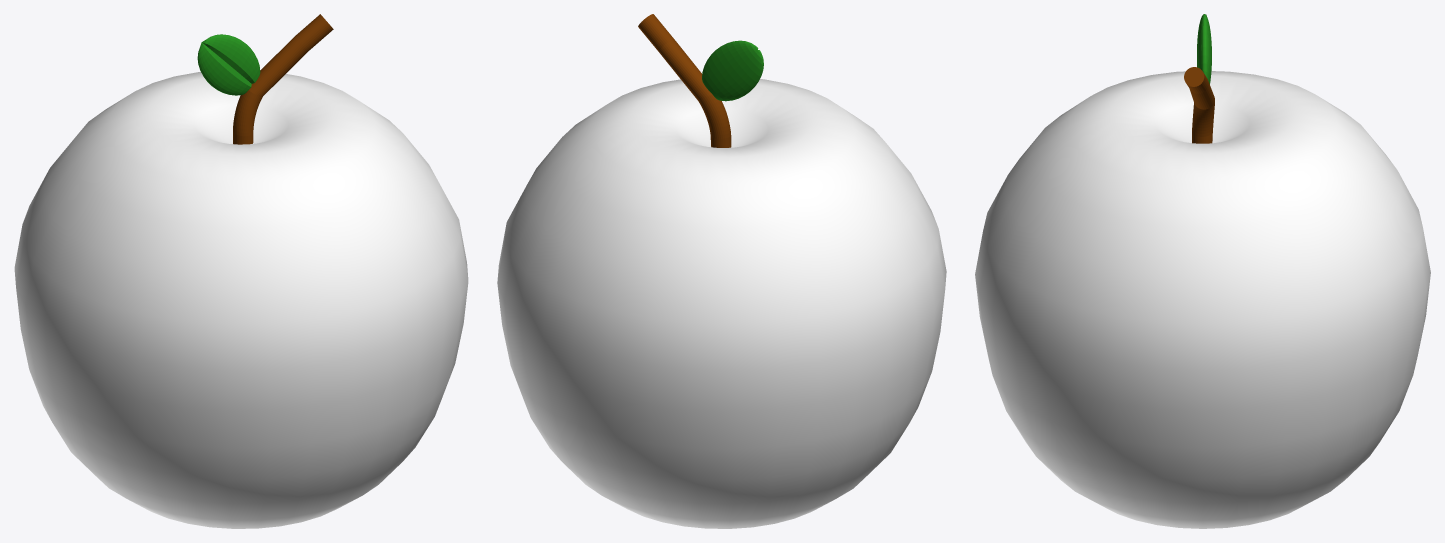
File: Apple.fbx
3 views of the same model, side by side, from view 1: azimuth 30°, elevation 25°; view 2: azimuth 150°, elevation 25°; view 3: azimuth 270°, elevation 25° (orthographic).
Parts seen in each view (by area): view 1: Sphere, Cylinder, Sphere.001; view 2: Sphere, Cylinder, Sphere.001; view 3: Sphere, Cylinder, Sphere.001.
Boxes of the visible parts, x1=… form: Sphere: x1=14, y1=72, x2=468, y2=528; Cylinder: x1=233, y1=14, x2=333, y2=144; Sphere.001: x1=197, y1=34, x2=260, y2=95; Sphere: x1=497, y1=79, x2=946, y2=528; Cylinder: x1=638, y1=14, x2=731, y2=147; Sphere.001: x1=702, y1=40, x2=763, y2=101; Sphere: x1=975, y1=71, x2=1430, y2=528; Cylinder: x1=1184, y1=67, x2=1214, y2=143; Sphere.001: x1=1197, y1=14, x2=1211, y2=84.
Bounding box in the file's own units: 1.88 × 2.07 × 1.88.
